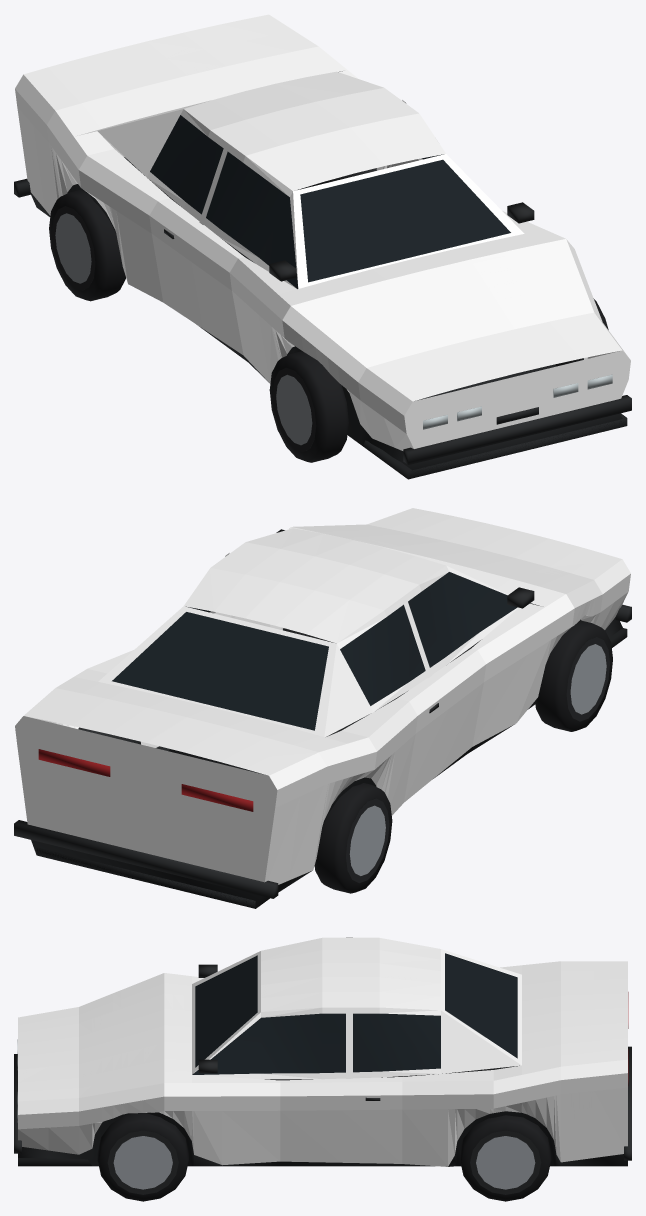
Rendered from varenna_pasta.glb.
3 renders of one model, top to bottom at view 1: azimuth 30°, elevation 25°; view 2: azimuth 150°, elevation 25°; view 3: azimuth 270°, elevation 25°, orthographic. The views are drawn at different scales.
Parts seen in each view (by area): view 1: Body_Paint, Body_Details, Mount_FrontLeft_Wheel_Details, Mount_RearLeft_Wheel_Details; view 2: Body_Paint, Body_Details, Mount_RearLeft_Wheel_Details, Mount_FrontLeft_Wheel_Details; view 3: Body_Paint, Body_Details, Mount_FrontRight_Wheel_Details, Mount_RearRight_Wheel_Details.
Part boxes in pixels (x1=…): Body_Paint: x1=15, y1=14, x2=630, y2=450; Body_Details: x1=14, y1=115, x2=631, y2=479; Mount_FrontLeft_Wheel_Details: x1=269, y1=351, x2=348, y2=462; Mount_RearLeft_Wheel_Details: x1=49, y1=190, x2=125, y2=301; Body_Paint: x1=15, y1=508, x2=630, y2=884; Body_Details: x1=14, y1=529, x2=631, y2=908; Mount_RearLeft_Wheel_Details: x1=314, y1=783, x2=392, y2=893; Mount_FrontLeft_Wheel_Details: x1=535, y1=620, x2=612, y2=731; Body_Paint: x1=18, y1=937, x2=627, y2=1166; Body_Details: x1=14, y1=953, x2=631, y2=1166; Mount_FrontRight_Wheel_Details: x1=97, y1=1113, x2=188, y2=1201; Mount_RearRight_Wheel_Details: x1=460, y1=1115, x2=551, y2=1201.
Size of the model in its own units: 1.92 by 1.31 by 4.2.
2 materials, 1 textured.
